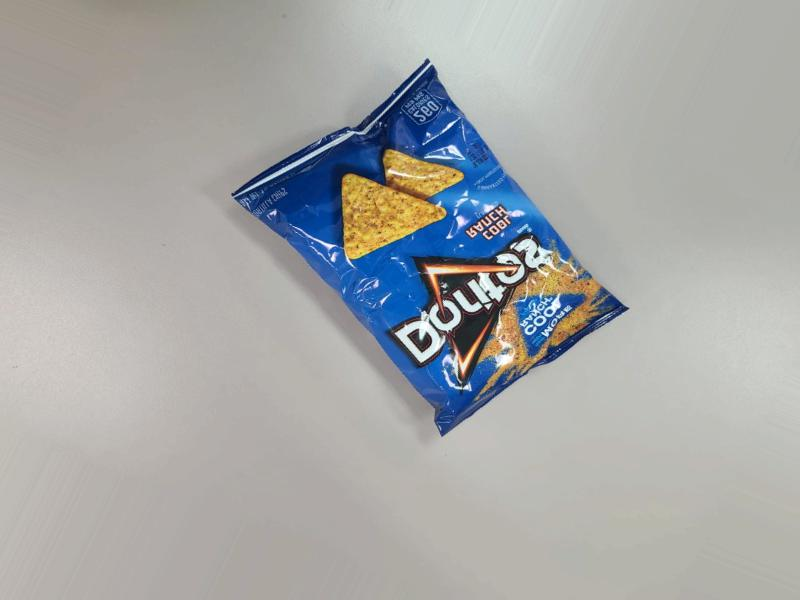doritos: (238, 46, 624, 455)
